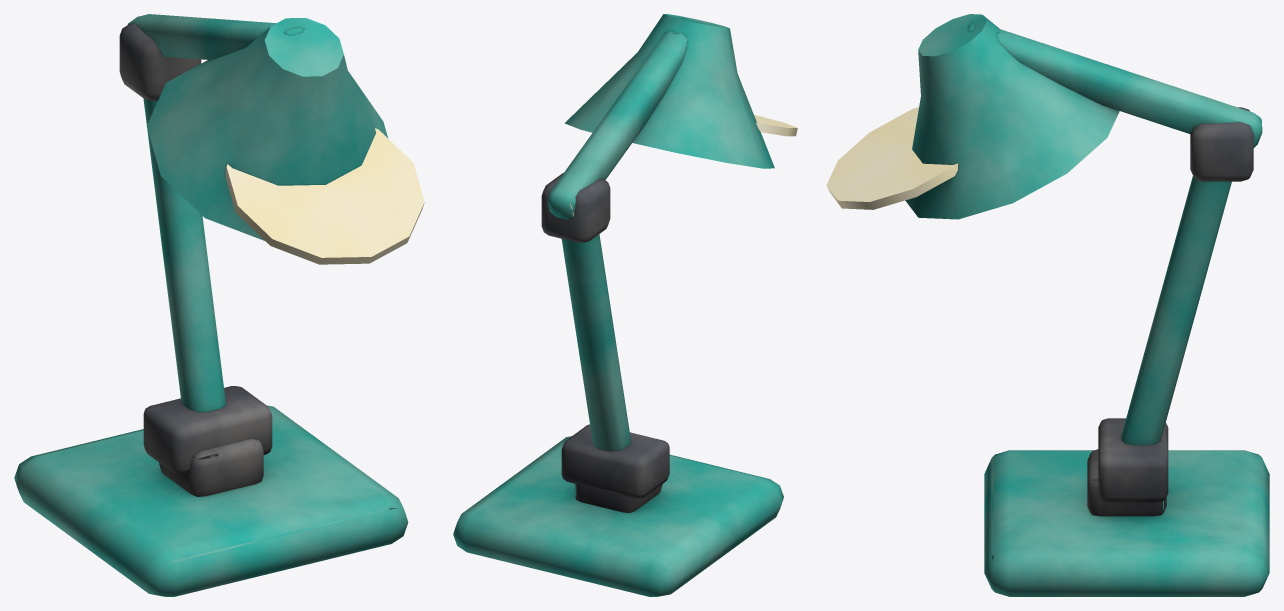
The model's file is desk_lamp.fbx.
3 renders of one model, left to right at view 1: azimuth 30°, elevation 25°; view 2: azimuth 150°, elevation 25°; view 3: azimuth 270°, elevation 25°, orthographic. The views are drawn at different scales.
Parts seen in each view (by area): view 1: Arm, Body, Glow; view 2: Arm, Body, Glow; view 3: Arm, Body, Glow.
Boxes of the visible parts, x1,y1,x2,y2 form: Arm: (119,14,388,474); Body: (14,405,408,596); Glow: (225,128,424,264); Arm: (541,14,774,498); Body: (453,436,783,596); Glow: (754,114,797,136); Arm: (905,14,1262,502); Body: (984,449,1269,596); Glow: (826,107,958,209).
Bounding box in the file's own units: 0.9 × 1.83 × 1.4.
1 material, 1 textured.
